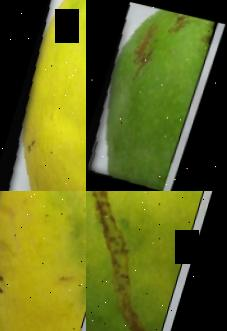PartiallyRipe: (86, 191, 227, 331)
Ripe: (0, 0, 86, 191), (0, 191, 86, 331)
Unripe: (86, 0, 217, 191)
